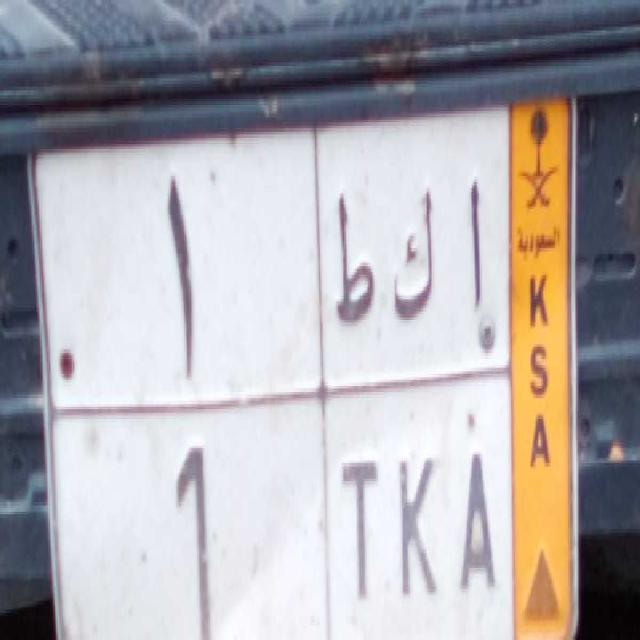license_plate: (47, 372, 511, 640)
